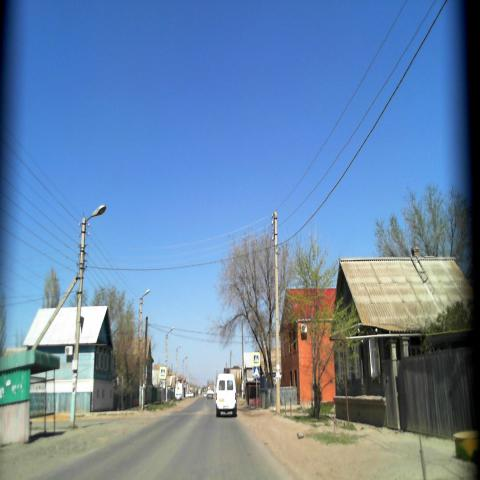5_19_1: (159, 367, 166, 380), (252, 354, 260, 365)
5_20: (254, 366, 260, 379)
